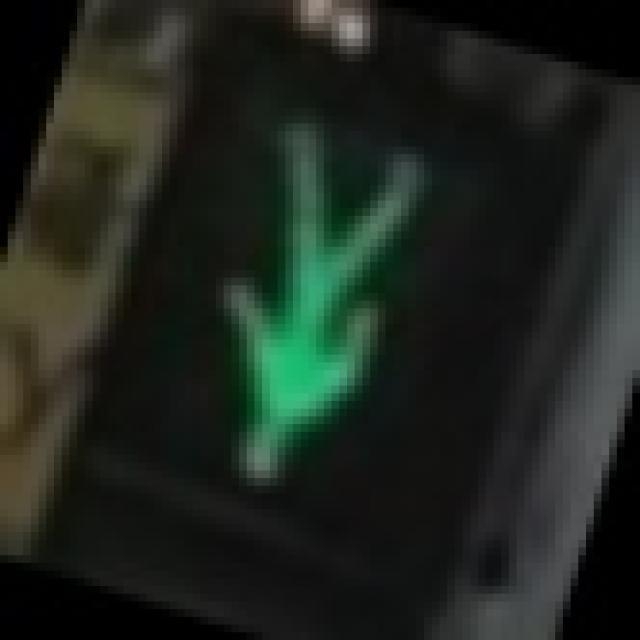geen-crossing: (62, 46, 556, 571)
